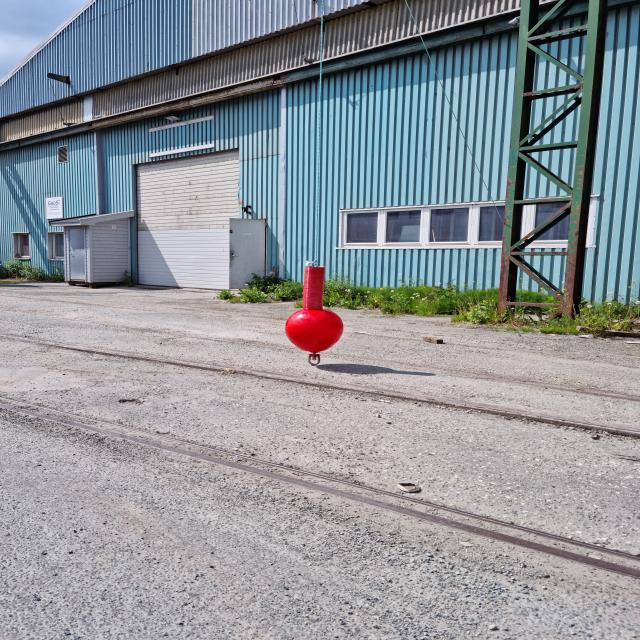red: (286, 268, 344, 352)
